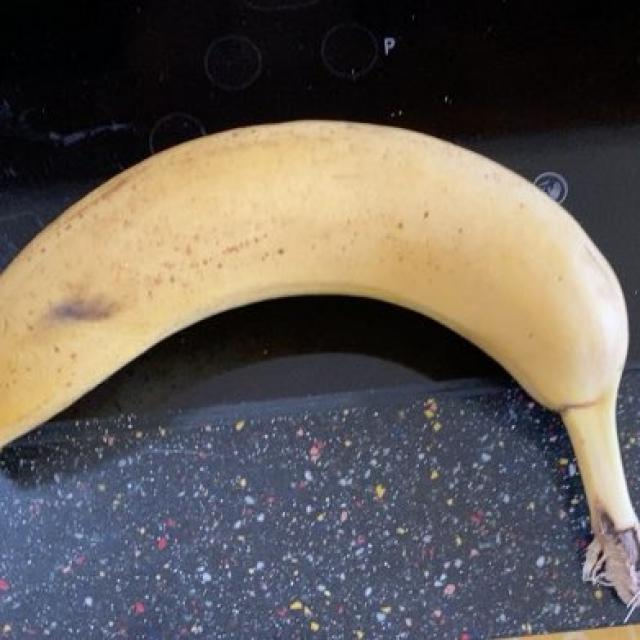banana: (22, 122, 624, 562)
